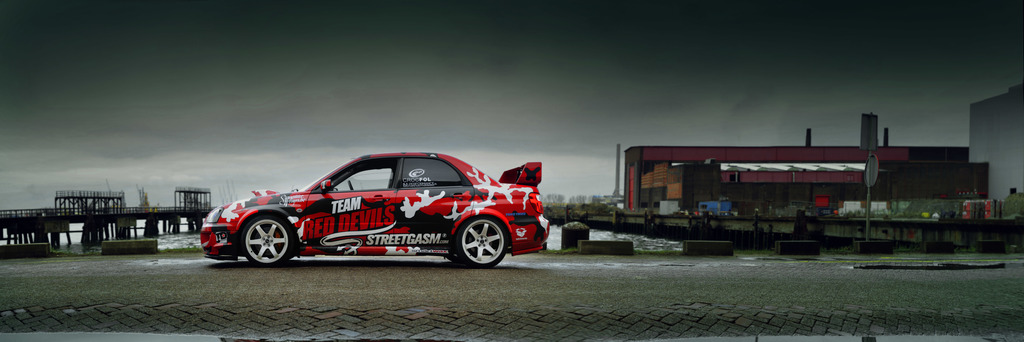Car: (201, 141, 545, 271)
